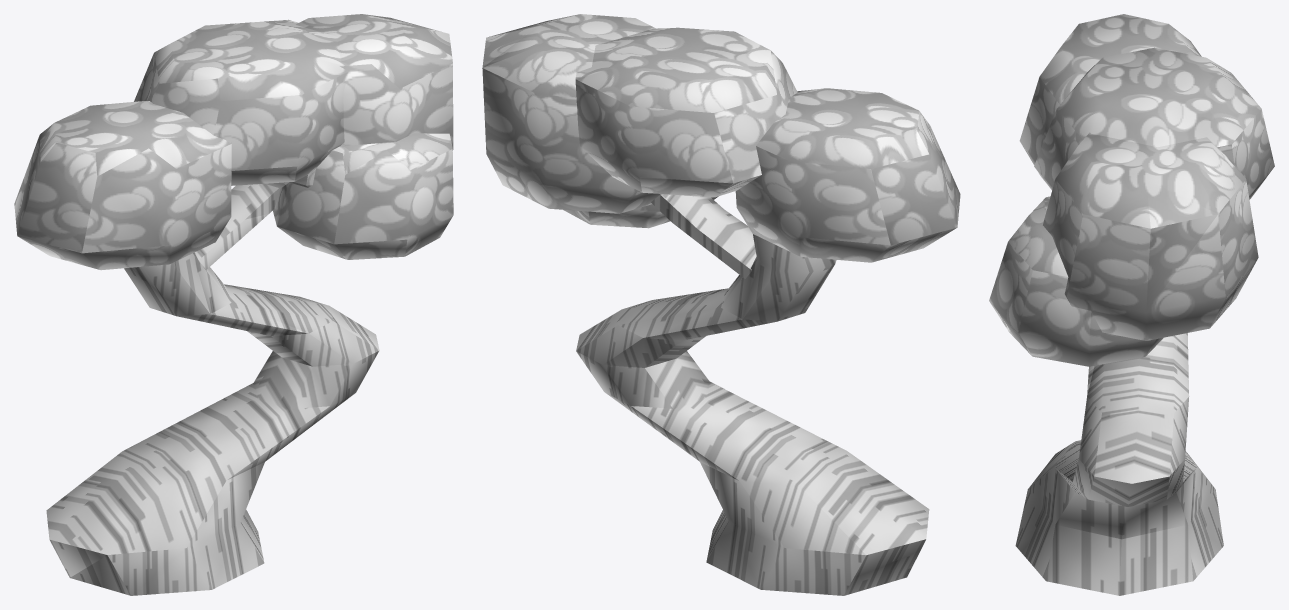
File: nature_shrine_large_wood.obj
The picture shows the model from 3 angles, left to right: view 1: azimuth 30°, elevation 25°; view 2: azimuth 150°, elevation 25°; view 3: azimuth 270°, elevation 25°; orthographic projection. The views are drawn at different scales.
Visible parts, largest first — view 1: source_component_000, source_component_002, source_component_003, source_component_005, source_component_004, source_component_001; view 2: source_component_000, source_component_002, source_component_003, source_component_004, source_component_001, source_component_005; view 3: source_component_000, source_component_004, source_component_003, source_component_005, source_component_002.
Part boxes in pixels (x1,y1,x2,y2): source_component_000: (46, 252, 379, 595); source_component_002: (14, 101, 231, 270); source_component_003: (134, 19, 348, 185); source_component_005: (272, 133, 453, 259); source_component_004: (265, 14, 453, 188); source_component_001: (195, 183, 279, 269); source_component_000: (576, 234, 929, 595); source_component_002: (735, 88, 960, 262); source_component_003: (575, 27, 797, 197); source_component_004: (482, 14, 661, 213); source_component_001: (651, 194, 756, 278); source_component_005: (563, 196, 718, 228); source_component_000: (1015, 333, 1223, 595); source_component_004: (1043, 132, 1258, 340); source_component_003: (1034, 47, 1274, 199); source_component_005: (989, 196, 1163, 366); source_component_002: (1019, 14, 1201, 183).
Size of the model in its own units: 2.74 by 2.77 by 1.4.
